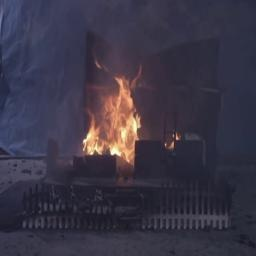fire: (87, 72, 140, 161)
